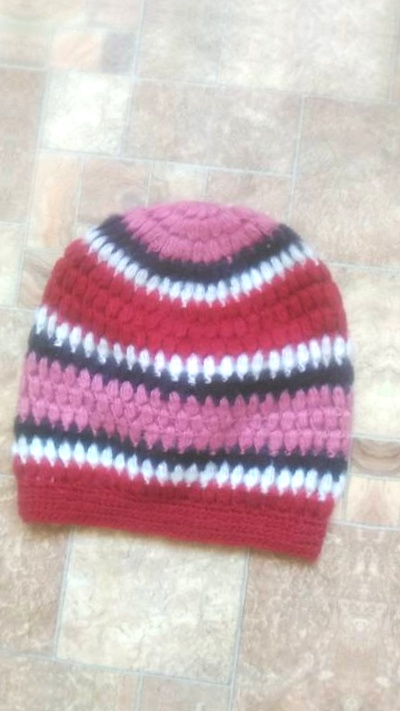Hat: (0, 159, 396, 571), (379, 205, 400, 616), (0, 115, 1, 527)
